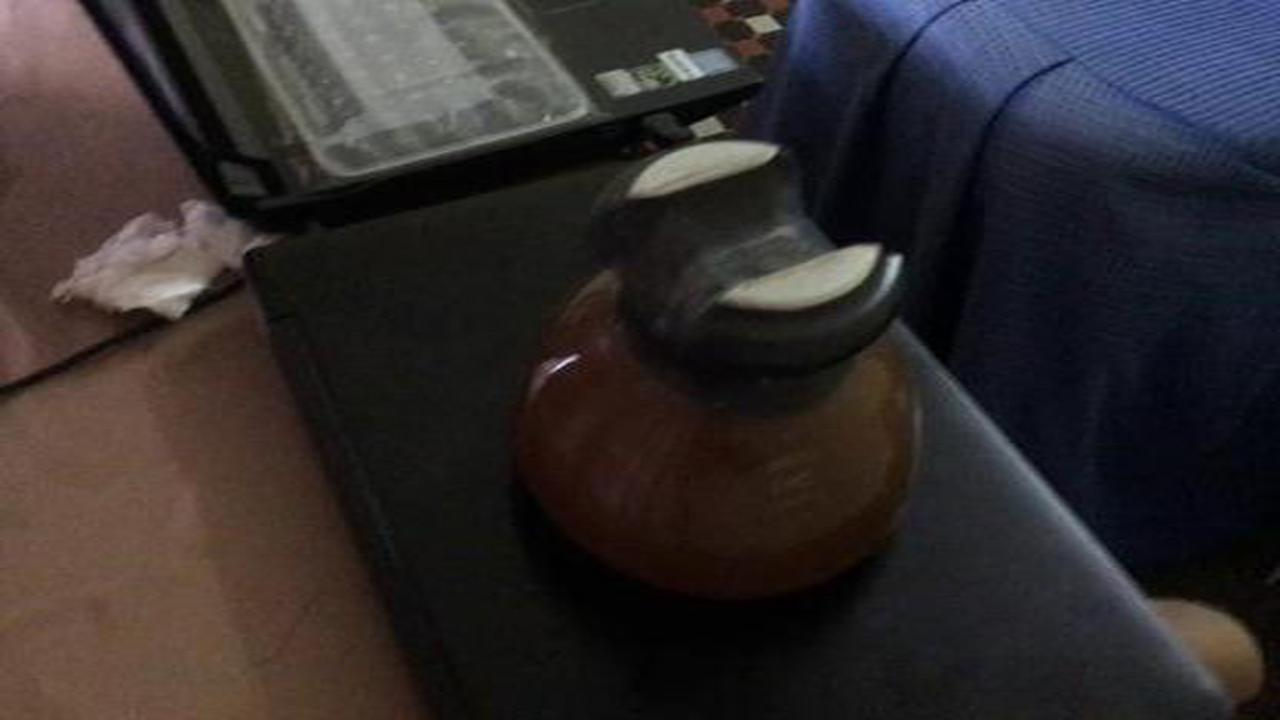insulator_pin: (505, 132, 942, 632)
